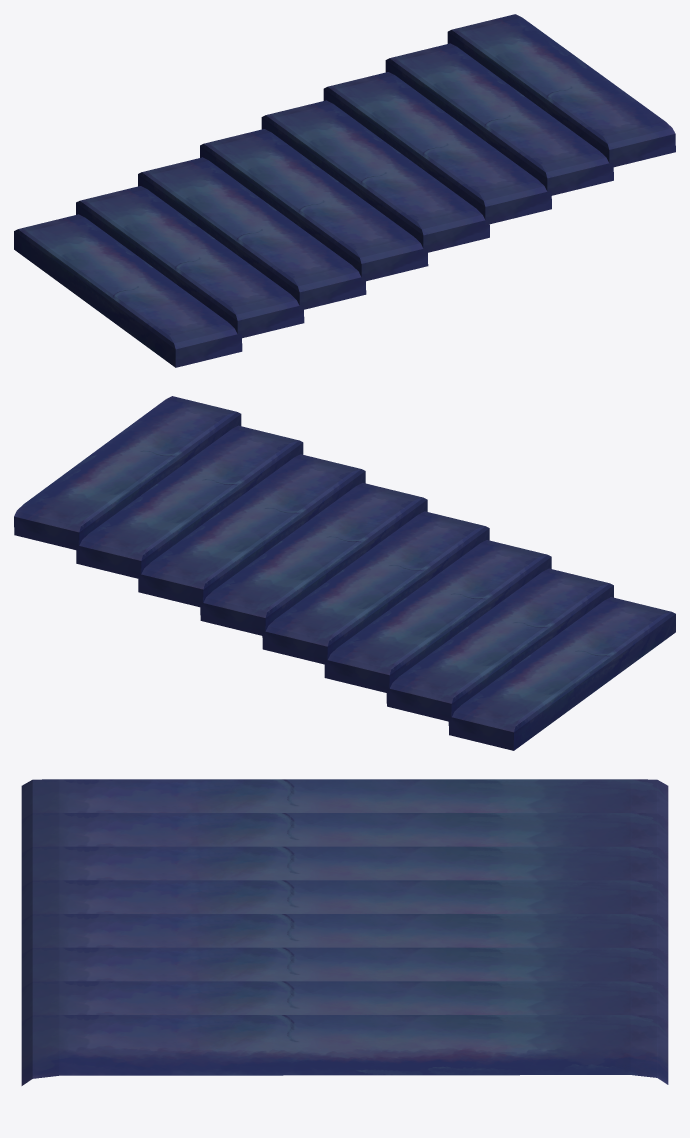
The model's file is Stairs_low_S.glb.
The picture shows the model from 3 angles, top to bottom: view 1: azimuth 30°, elevation 25°; view 2: azimuth 150°, elevation 25°; view 3: azimuth 270°, elevation 25°; orthographic projection. The views are drawn at different scales.
Parts seen in each view (by area): view 1: Stairs StraighSmall.001; view 2: Stairs StraighSmall.001; view 3: Stairs StraighSmall.001.
Boxes of the visible parts, x1=… form: Stairs StraighSmall.001: x1=14, y1=14, x2=675, y2=367; Stairs StraighSmall.001: x1=14, y1=396, x2=675, y2=750; Stairs StraighSmall.001: x1=21, y1=779, x2=668, y2=1085.
Bounding box in the file's own units: 11.74 × 2.63 × 6.57.
1 material, 1 textured.
